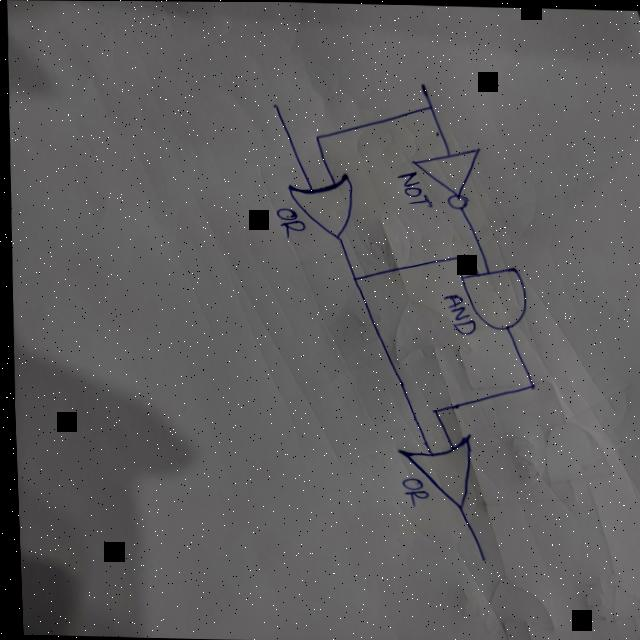junction: (518, 376, 538, 393), (345, 272, 361, 284), (425, 404, 438, 414), (310, 132, 322, 142), (423, 102, 434, 110), (462, 251, 471, 259)
terminal: (469, 548, 488, 562), (268, 100, 281, 110), (416, 80, 426, 88)
text: (394, 169, 432, 207), (440, 291, 472, 334), (271, 206, 305, 240), (395, 476, 427, 507)
